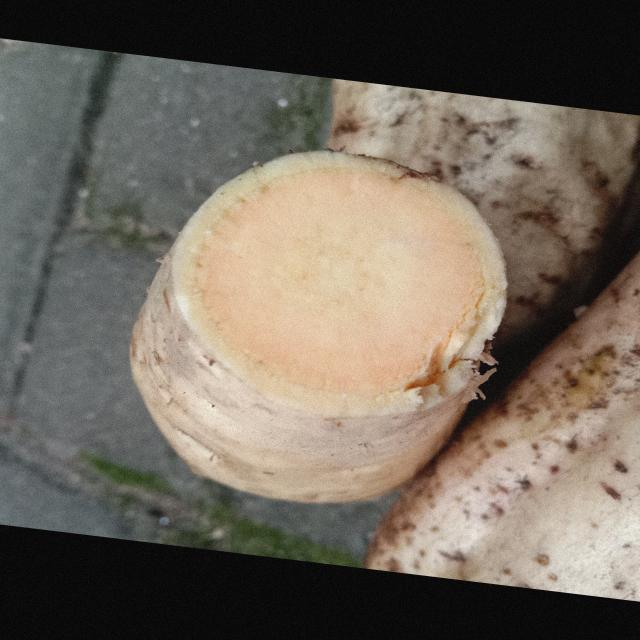Healthy Sweet Potato: (172, 151, 507, 415)
